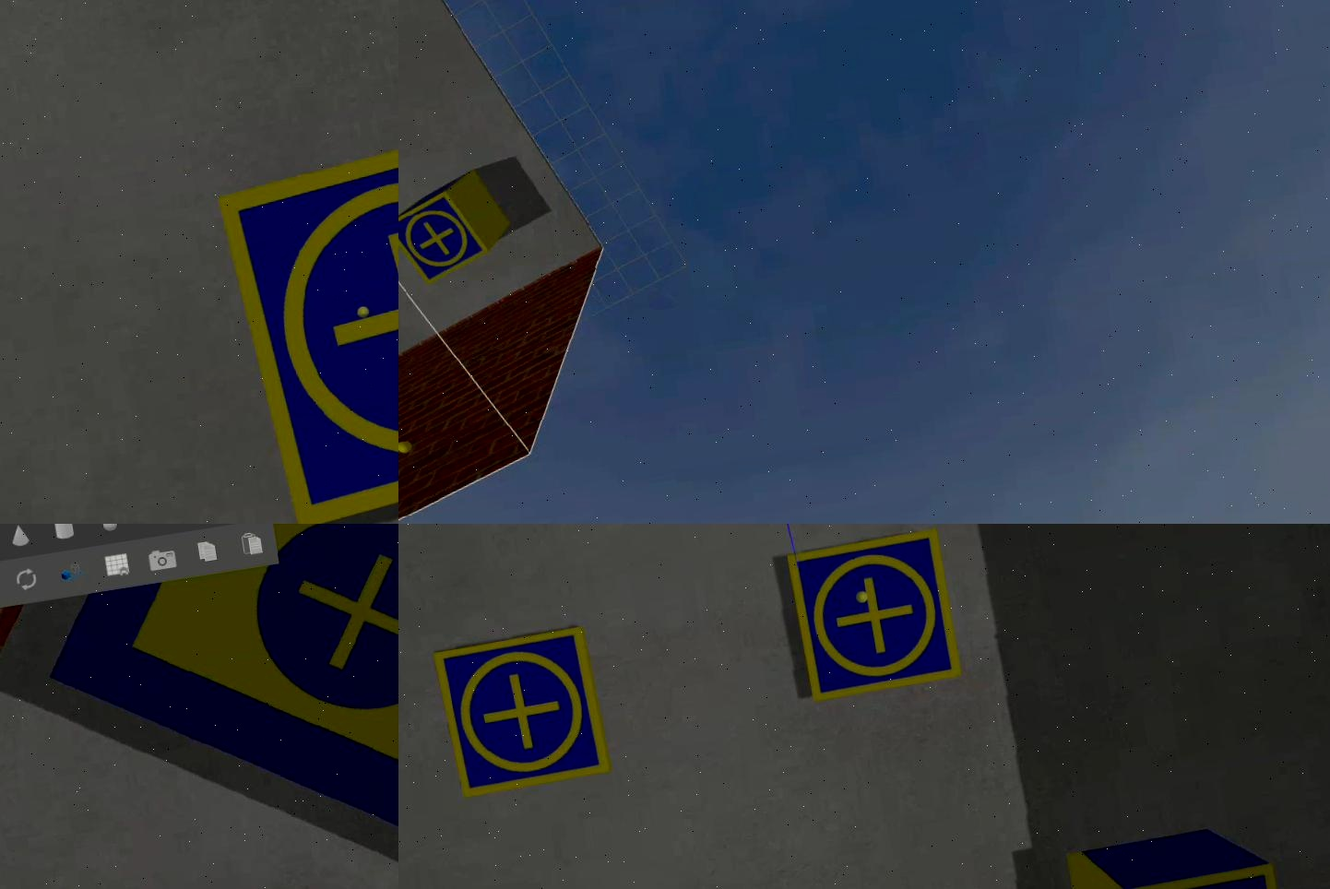large_base: (26, 524, 398, 889)
small_base: (212, 107, 398, 524), (433, 624, 614, 801), (786, 528, 965, 706), (398, 186, 493, 288)
